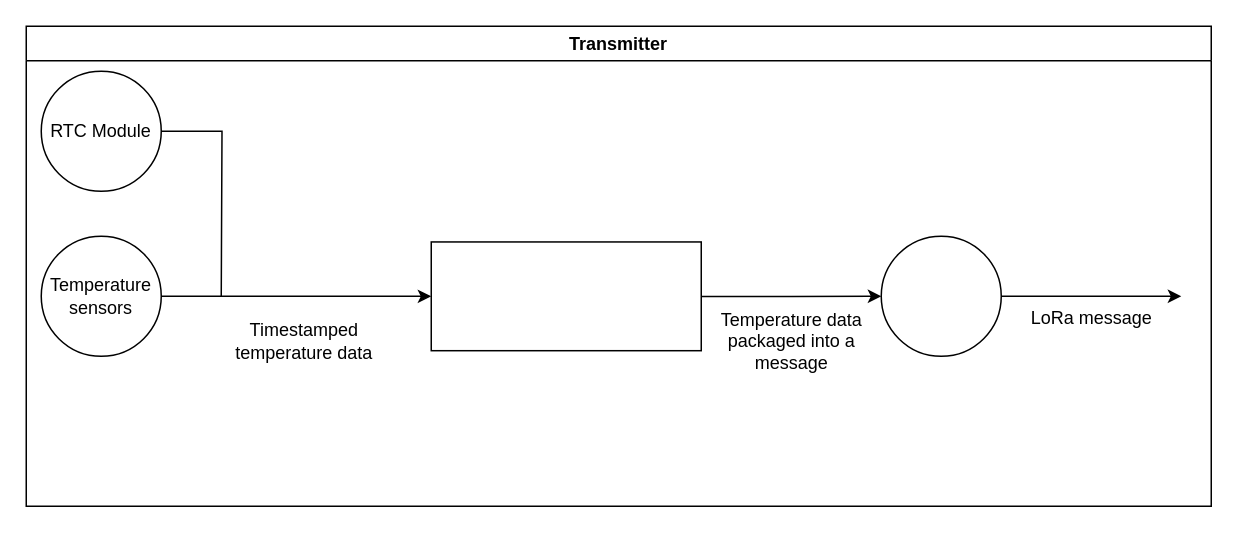
The diagram is 1238 pixels wide and 533 high, and some of its shapes have lost their labels. Each missing label, with the box of its shape:
LoRa Module: (880, 235, 1001, 356)
Microcontroller: (430, 240, 701, 351)
